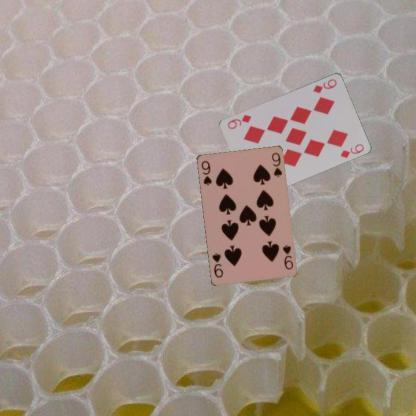9d: (310, 76, 338, 94)
9s: (280, 242, 294, 271), (198, 158, 212, 186)
